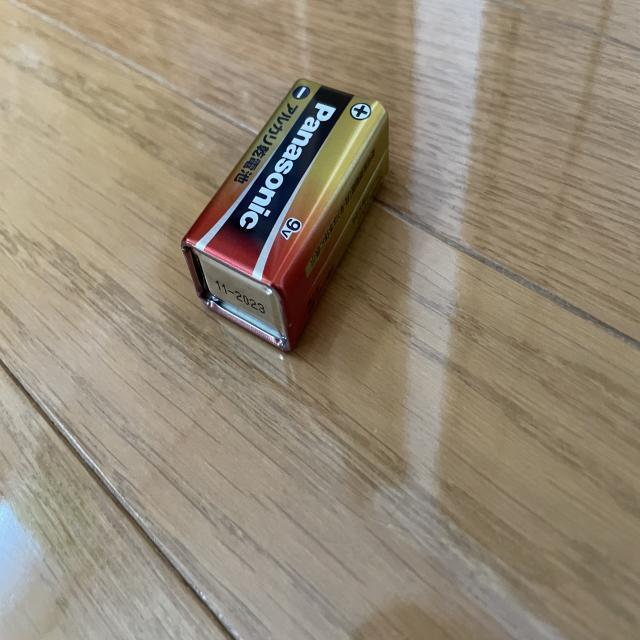9V: (181, 77, 392, 354)
